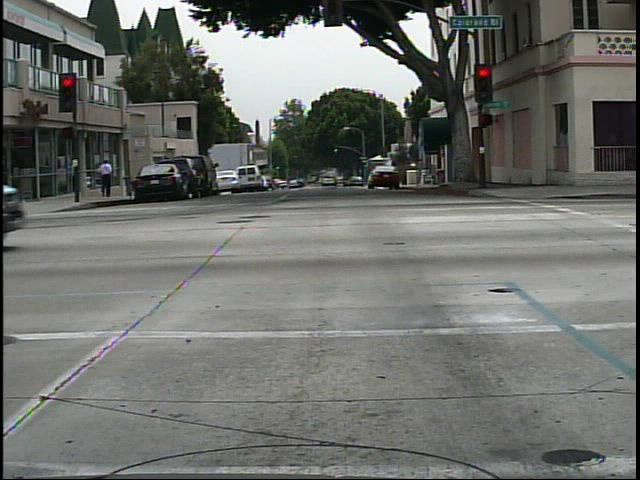person: (459, 139, 488, 196), (97, 154, 117, 200)
